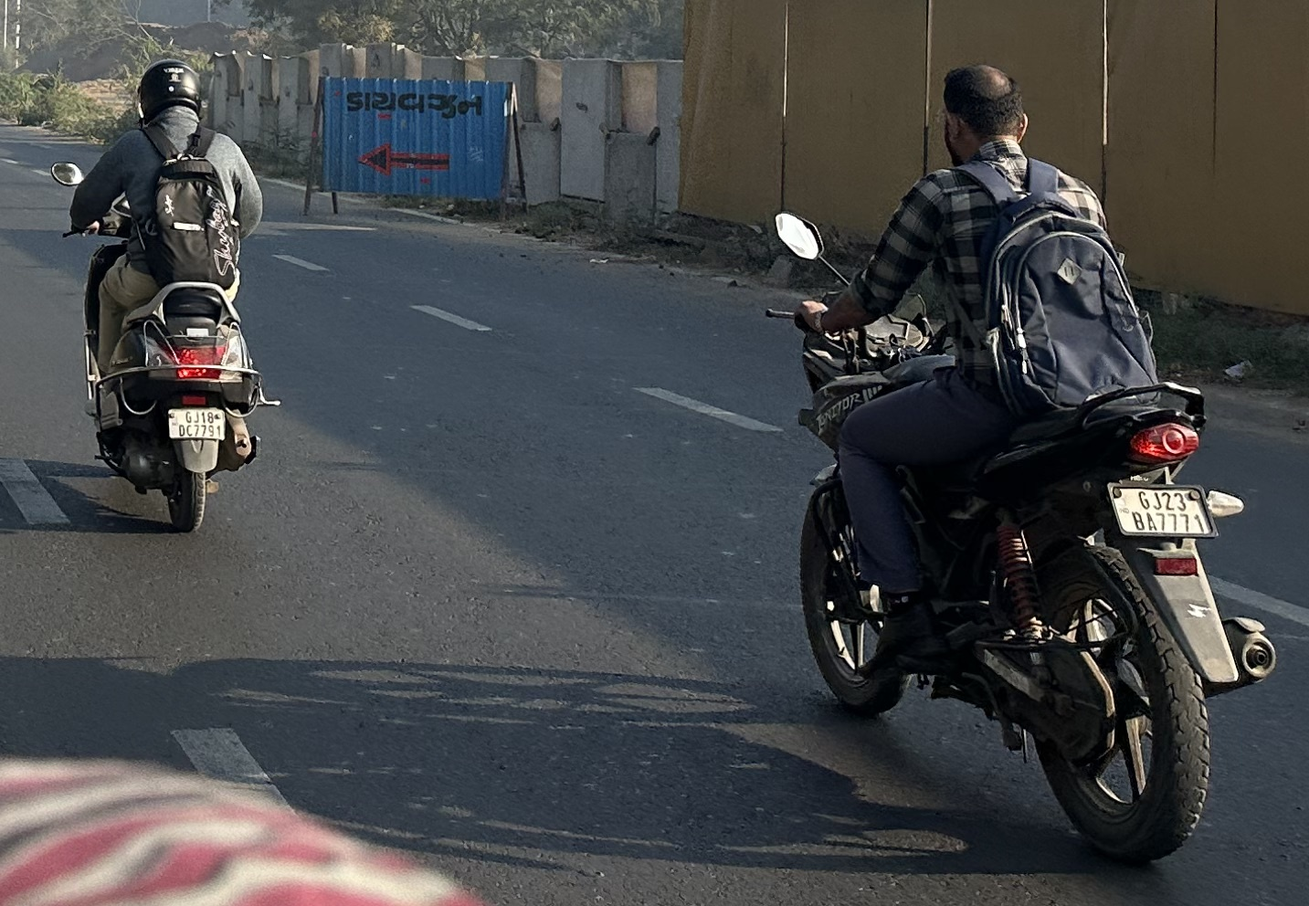BikeWithRider: (770, 56, 1279, 870), (45, 56, 275, 535)
Helmet: (131, 59, 211, 126)
NoHelmet: (931, 58, 1034, 175)
